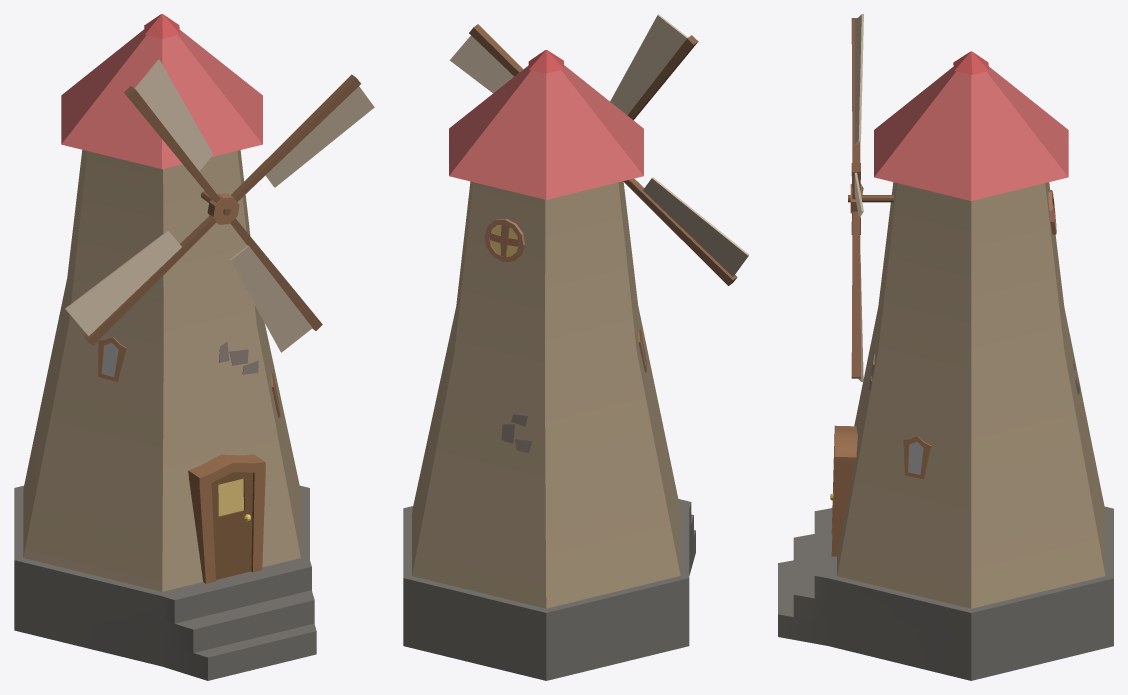
The model's file is Moulin.fbx.
3 views of the same model, side by side, from view 1: azimuth 30°, elevation 25°; view 2: azimuth 150°, elevation 25°; view 3: azimuth 270°, elevation 25° (orthographic). The views are drawn at different scales.
Parts seen in each view (by area): view 1: pasted__Corps_Moulin, pasted__Bas_Moulin, pasted__Toit_Moulin, pasted__pCube37, pasted__pCube52, pasted__pCube53, pasted__pCube42, pasted__pCube51, pasted__pCube54, pasted__pCube49, pasted__pCube47, pasted__pCube50 (+5 smaller); view 2: pasted__Corps_Moulin, pasted__Bas_Moulin, pasted__Toit_Moulin, pasted__pCube51, pasted__pCube52, pasted__pCube54, pasted__pCube47, pasted__pCube50, pasted__pCube49, pasted__pasted__Fenetre_ronde, pasted__Toit_Moulin1; view 3: pasted__Corps_Moulin, pasted__Bas_Moulin, pasted__Toit_Moulin, pasted__pCube37, pasted__pCube48, pasted__pCube51, pasted__Toit_Moulin1, pasted__pCube55, pasted__pCube50.
Part boxes in pixels (bbox=[...]): pasted__Corps_Moulin: bbox=[23, 150, 300, 591]; pasted__Bas_Moulin: bbox=[14, 485, 316, 680]; pasted__Toit_Moulin: bbox=[61, 29, 262, 168]; pasted__pCube37: bbox=[188, 454, 265, 583]; pasted__pCube52: bbox=[65, 230, 181, 335]; pasted__pCube53: bbox=[230, 245, 312, 352]; pasted__pCube42: bbox=[211, 472, 253, 579]; pasted__pCube51: bbox=[134, 59, 213, 171]; pasted__pCube54: bbox=[265, 86, 374, 187]; pasted__pCube49: bbox=[231, 74, 360, 201]; pasted__pCube47: bbox=[83, 215, 216, 345]; pasted__pCube50: bbox=[124, 86, 220, 202]; pasted__Corps_Moulin: bbox=[412, 181, 680, 608]; pasted__Bas_Moulin: bbox=[403, 499, 695, 680]; pasted__Toit_Moulin: bbox=[449, 65, 643, 199]; pasted__pCube51: bbox=[610, 14, 687, 115]; pasted__pCube52: bbox=[643, 177, 749, 276]; pasted__pCube54: bbox=[449, 35, 514, 93]; pasted__pCube47: bbox=[623, 178, 737, 285]; pasted__pCube50: bbox=[627, 35, 698, 120]; pasted__pCube49: bbox=[469, 24, 523, 76]; pasted__pasted__Fenetre_ronde: bbox=[484, 218, 525, 261]; pasted__Toit_Moulin1: bbox=[528, 50, 563, 73]; pasted__Corps_Moulin: bbox=[837, 182, 1105, 608]; pasted__Bas_Moulin: bbox=[778, 506, 1113, 680]; pasted__Toit_Moulin: bbox=[874, 66, 1068, 200]; pasted__pCube37: bbox=[831, 425, 857, 556]; pasted__pCube48: bbox=[851, 211, 860, 378]; pasted__pCube51: bbox=[855, 14, 863, 144]; pasted__Toit_Moulin1: bbox=[953, 51, 989, 74]; pasted__pCube55: bbox=[903, 436, 931, 479]; pasted__pCube50: bbox=[851, 18, 860, 162].
Bounding box in the file's own units: 45.99 × 83.94 × 44.87.
